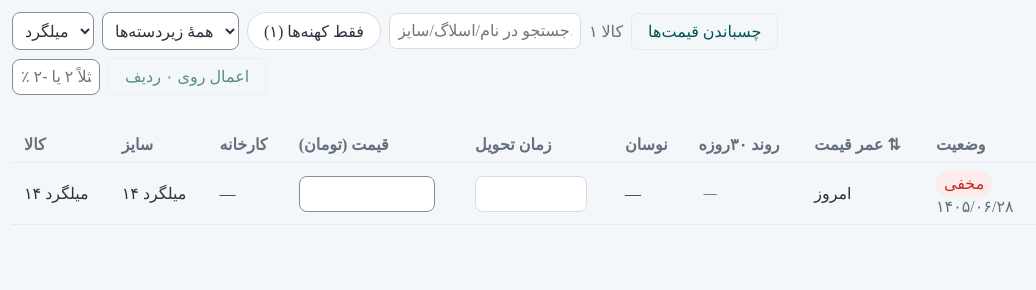
Test: PricingGrid delivery-time-only edits › warns instead of silently discarding one on a row with no price
Type "فوری" into the field named "زمان تحویل میلگرد ۱۴".
click(531, 194); type("فوری")  # box [475, 176, 587, 212]
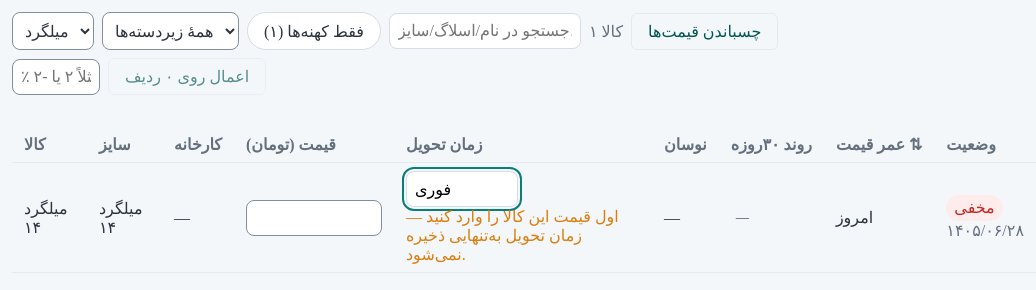
Check: the text "اول قیمت این کالا را وارد کنید" is shown, box [406, 208, 619, 263]
